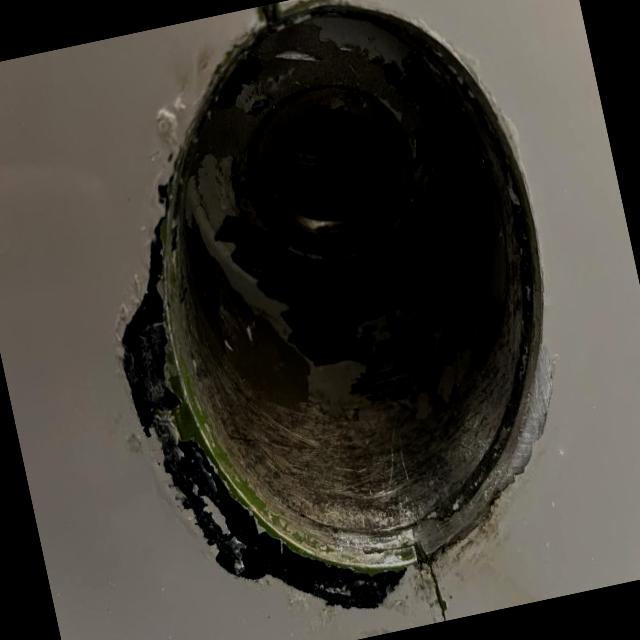Missing Fastener: (224, 58, 436, 294)
